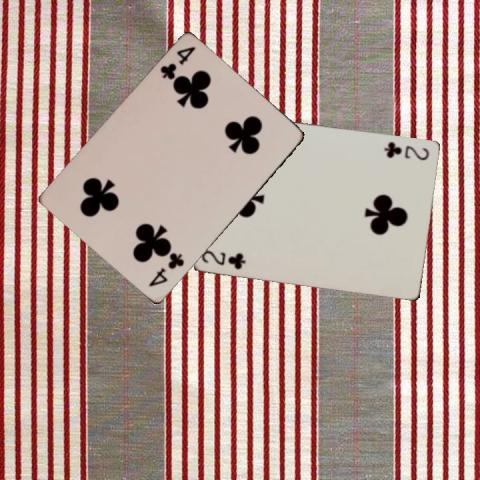2c: (199, 246, 247, 270), (381, 138, 431, 161)
4c: (146, 250, 185, 289), (157, 44, 197, 82)
